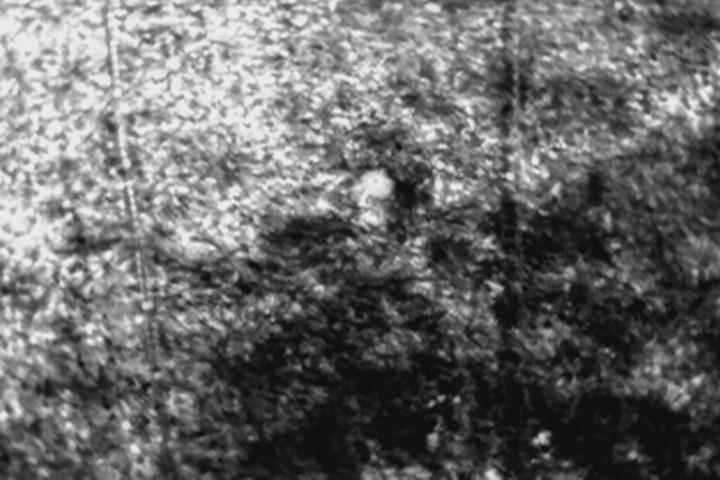landmine: (361, 167, 393, 199)
